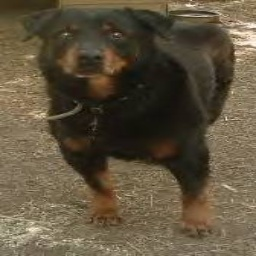dog: (21, 6, 236, 238)
